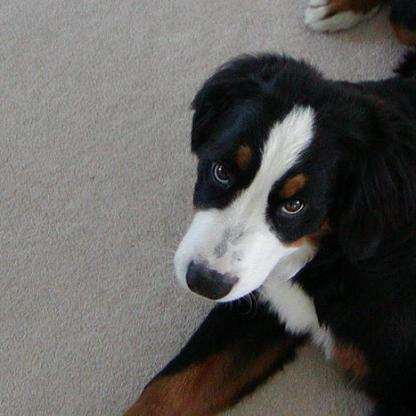Bernese_mountain_dog: (121, 0, 414, 414)
